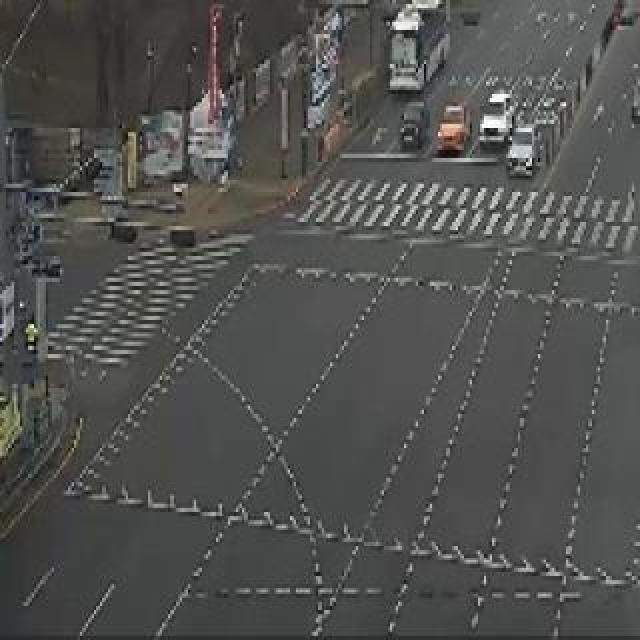car: (387, 100, 431, 153)
